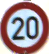20 km speed: (1, 1, 49, 53)
